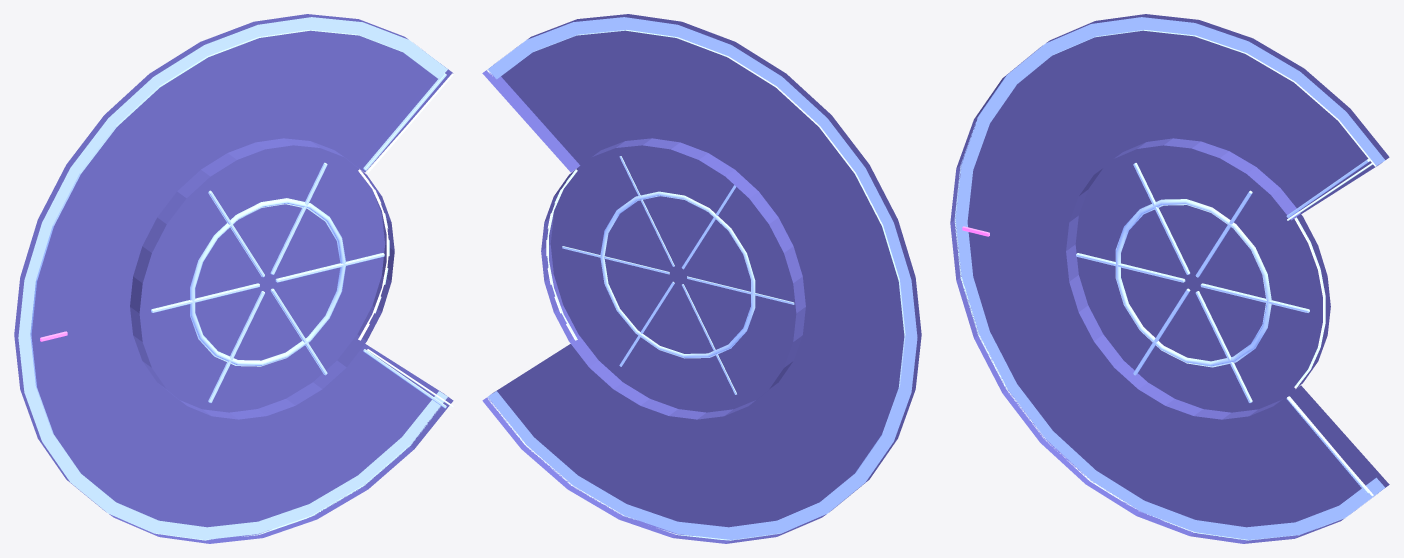
The model's file is prism-panel-fun0-low.glb.
The picture shows the model from 3 angles, left to right: view 1: azimuth 30°, elevation 25°; view 2: azimuth 150°, elevation 25°; view 3: azimuth 330°, elevation 25°; orthographic projection.
Visible parts, largest first — view 1: RENDER_PANEL_SHELL, RENDER_PANEL_FRAME, RENDER_PANEL_SIGNAL; view 2: RENDER_PANEL_SHELL, RENDER_PANEL_FRAME, RENDER_PANEL_SIGNAL; view 3: RENDER_PANEL_SHELL, RENDER_PANEL_FRAME, RENDER_PANEL_SIGNAL.
Boxes of the visible parts, left/top/right/bottom form: RENDER_PANEL_SHELL: left=14, top=14, right=453, bottom=543; RENDER_PANEL_FRAME: left=18, top=17, right=447, bottom=540; RENDER_PANEL_SIGNAL: left=358, top=73, right=453, bottom=407; RENDER_PANEL_SHELL: left=482, top=14, right=921, bottom=543; RENDER_PANEL_FRAME: left=486, top=17, right=917, bottom=540; RENDER_PANEL_SIGNAL: left=546, top=169, right=577, bottom=340; RENDER_PANEL_SHELL: left=950, top=14, right=1389, bottom=543; RENDER_PANEL_FRAME: left=954, top=17, right=1385, bottom=540; RENDER_PANEL_SIGNAL: left=1287, top=162, right=1373, bottom=496.
Size of what is drawn, in the model's own units: 36.2 by 40.99 by 1.95.
